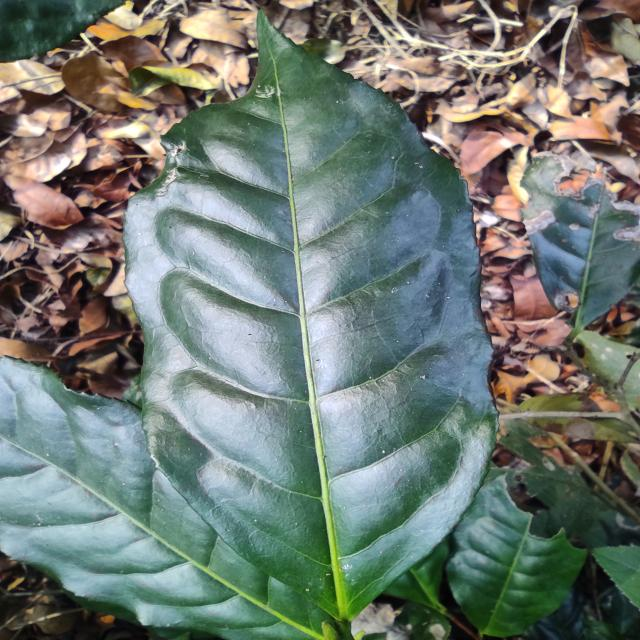Category D 7+ days, Not for Tea: (94, 2, 522, 622)
